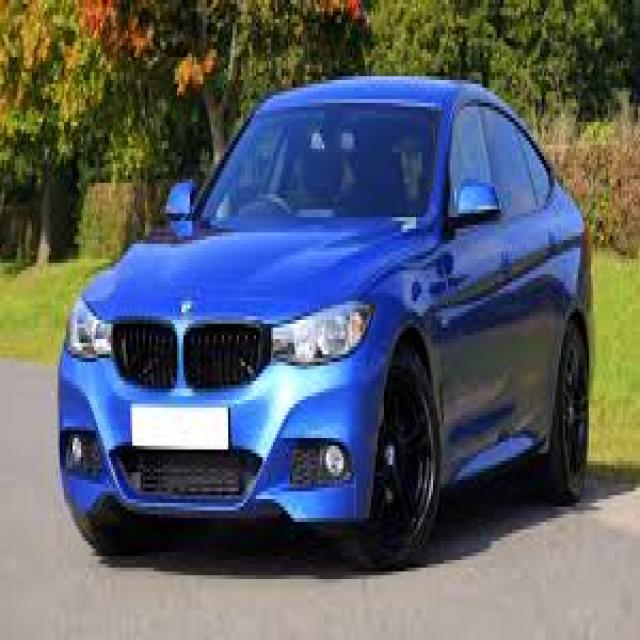Car: (54, 67, 598, 569)
